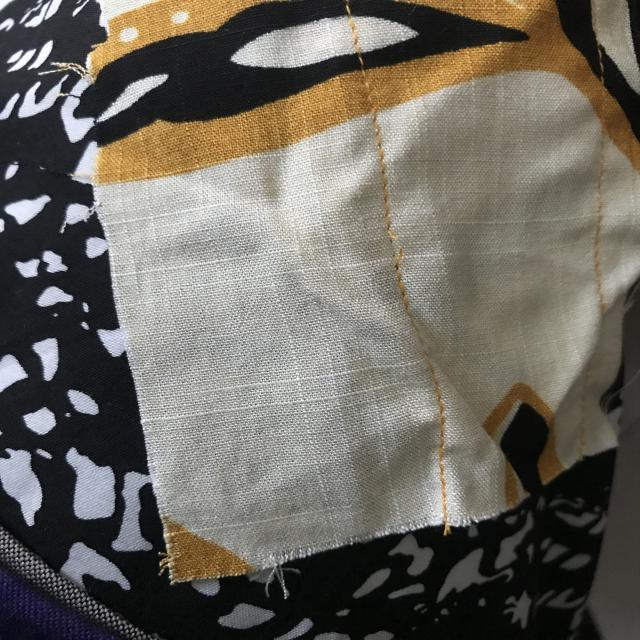broken: (374, 213, 417, 278)
